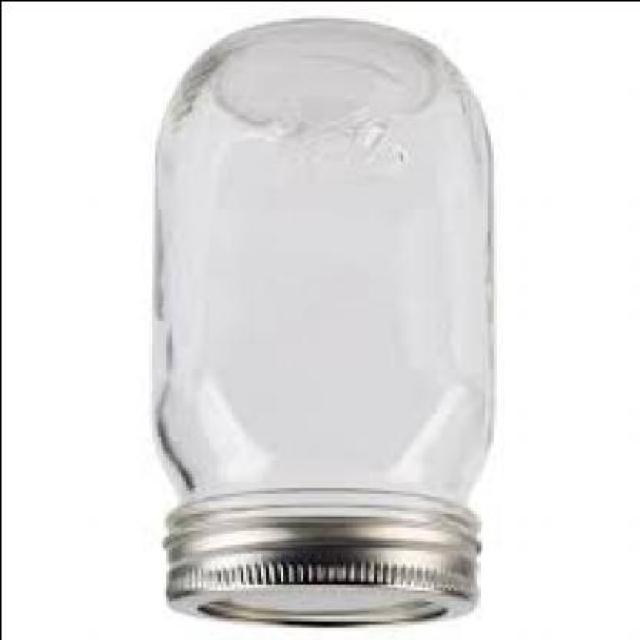GLASS: (151, 26, 498, 546)
METAL: (165, 512, 481, 628)
